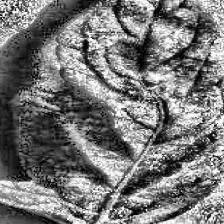spider mites: (0, 0, 224, 223)
